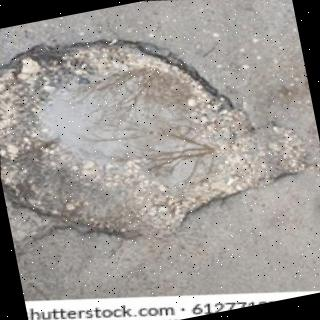pothole: (0, 39, 307, 240)
